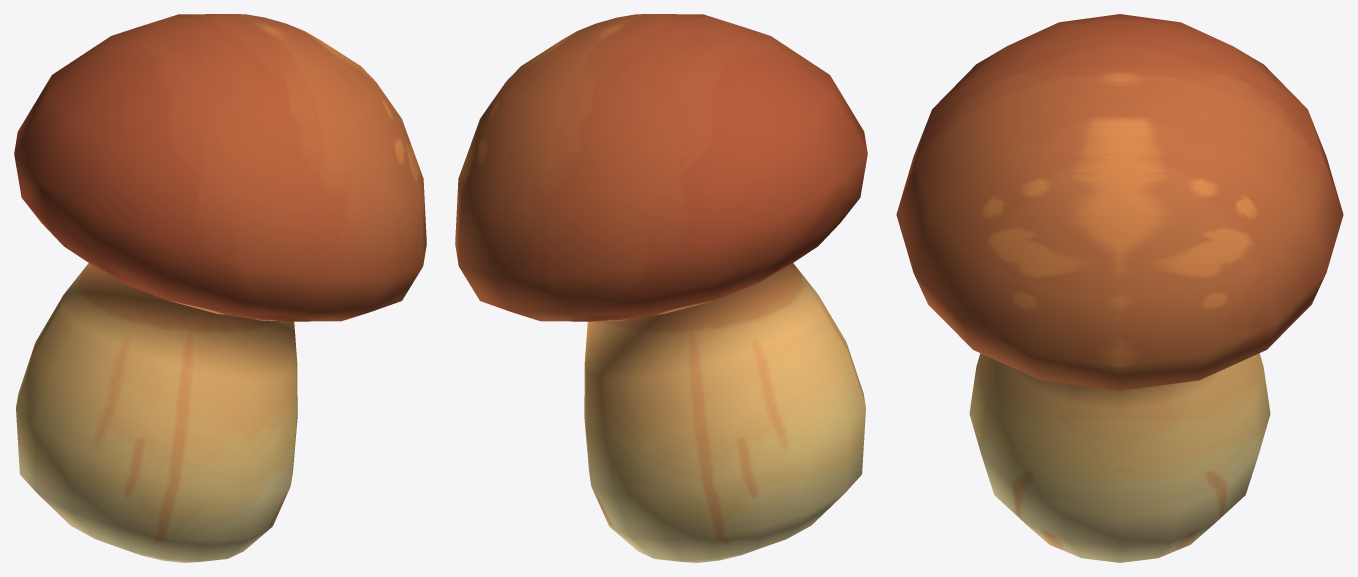
3 renders of one model, left to right at view 1: azimuth 30°, elevation 25°; view 2: azimuth 150°, elevation 25°; view 3: azimuth 270°, elevation 25°, orthographic. The views are drawn at different scales.
Visible parts, largest first — view 1: mushrooms; view 2: mushrooms; view 3: mushrooms.
Boxes of the visible parts, x1,y1,x2,y2 form: mushrooms: (14, 14, 426, 562); mushrooms: (455, 14, 867, 562); mushrooms: (896, 14, 1343, 562).
Bounding box in the file's own units: 0.9956 × 1.33 × 1.02.
Materials: 1 (1 with a texture image).
